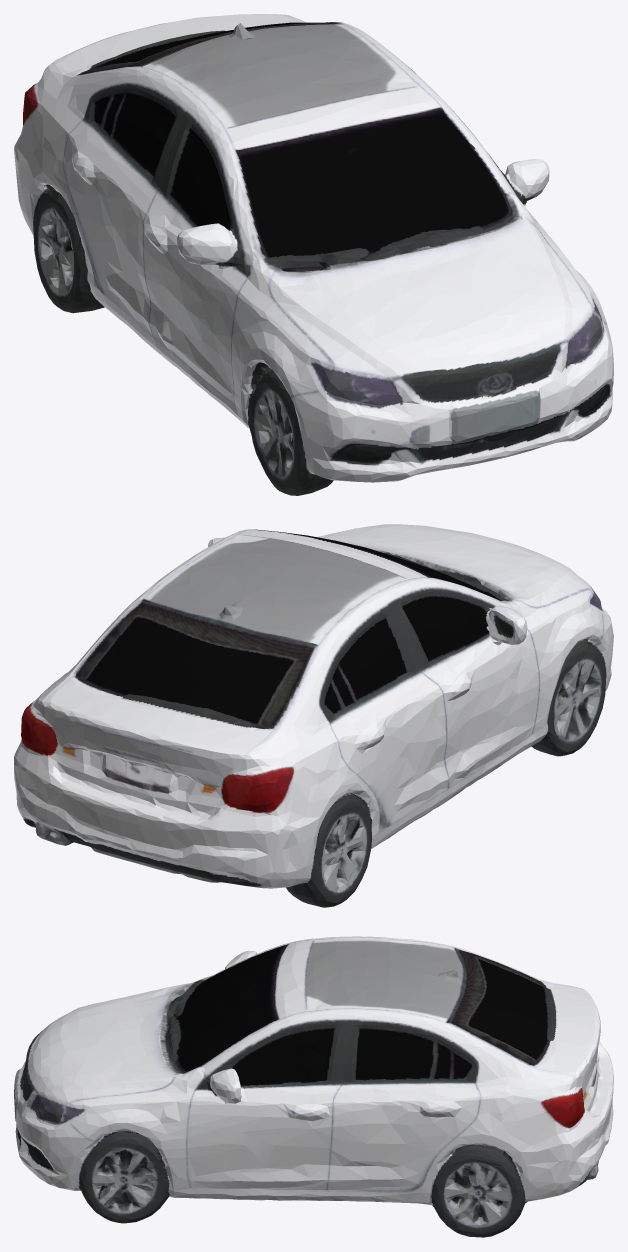
The model's file is car.fbx.
The picture shows the model from 3 angles, top to bottom: view 1: azimuth 30°, elevation 25°; view 2: azimuth 150°, elevation 25°; view 3: azimuth 270°, elevation 25°; orthographic projection. The views are drawn at different scales.
Parts seen in each view (by area): view 1: Mesh_0; view 2: Mesh_0; view 3: Mesh_0.
Boxes of the visible parts, <box> form: Mesh_0: <box>14,14,613,495</box>; Mesh_0: <box>14,524,613,907</box>; Mesh_0: <box>14,936,613,1237</box>.
Bounding box in the file's own units: 1.99 × 1.45 × 3.75.
Materials: 1 (1 with a texture image).
